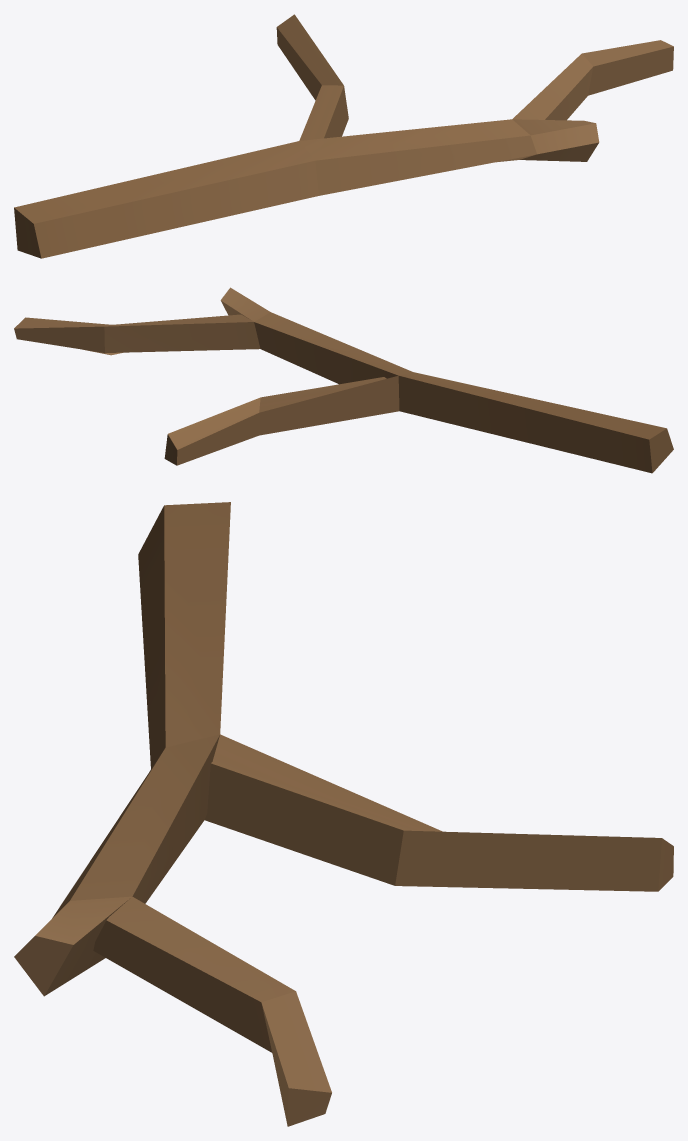
Rendered from branch_02.fbx.
The picture shows the model from 3 angles, top to bottom: view 1: azimuth 30°, elevation 25°; view 2: azimuth 150°, elevation 25°; view 3: azimuth 270°, elevation 25°; orthographic projection. The views are drawn at different scales.
Parts seen in each view (by area): view 1: branch_02; view 2: branch_02; view 3: branch_02.
Boxes of the visible parts, bbox=[...] form: branch_02: bbox=[14, 14, 673, 258]; branch_02: bbox=[14, 287, 673, 473]; branch_02: bbox=[14, 502, 673, 1126].
Size of the model in its own units: 1.4 by 0.08 by 0.7.
Materials: 1 (1 with a texture image).
